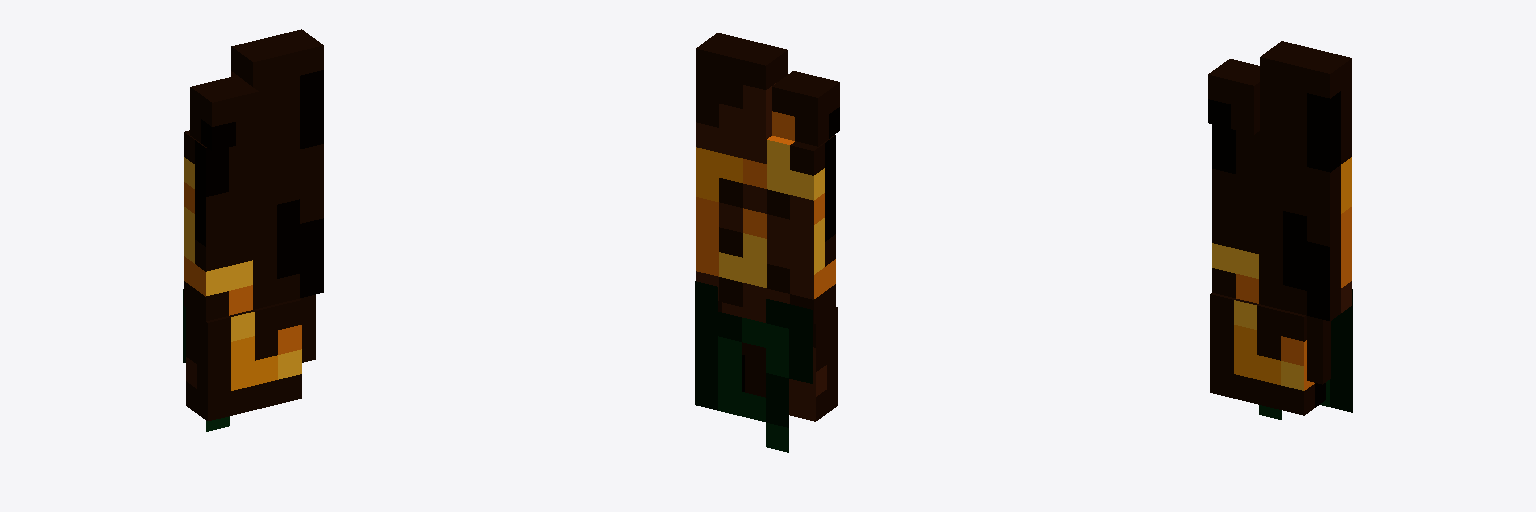
3 renders of one model, left to right at view 1: azimuth 30°, elevation 25°; view 2: azimuth 150°, elevation 25°; view 3: azimuth 330°, elevation 25°, orthographic.
Parts seen in each view (by area): view 1: cube; view 2: cube; view 3: cube.
Part boxes in pixels (left/top/right/bottom): cube: left=183, top=29, right=323, bottom=431; cube: left=695, top=33, right=839, bottom=452; cube: left=1208, top=41, right=1352, bottom=419.
Bounding box in the file's own units: 0.3094 × 1.01 × 0.1291.
Materials: 1 (1 with a texture image).